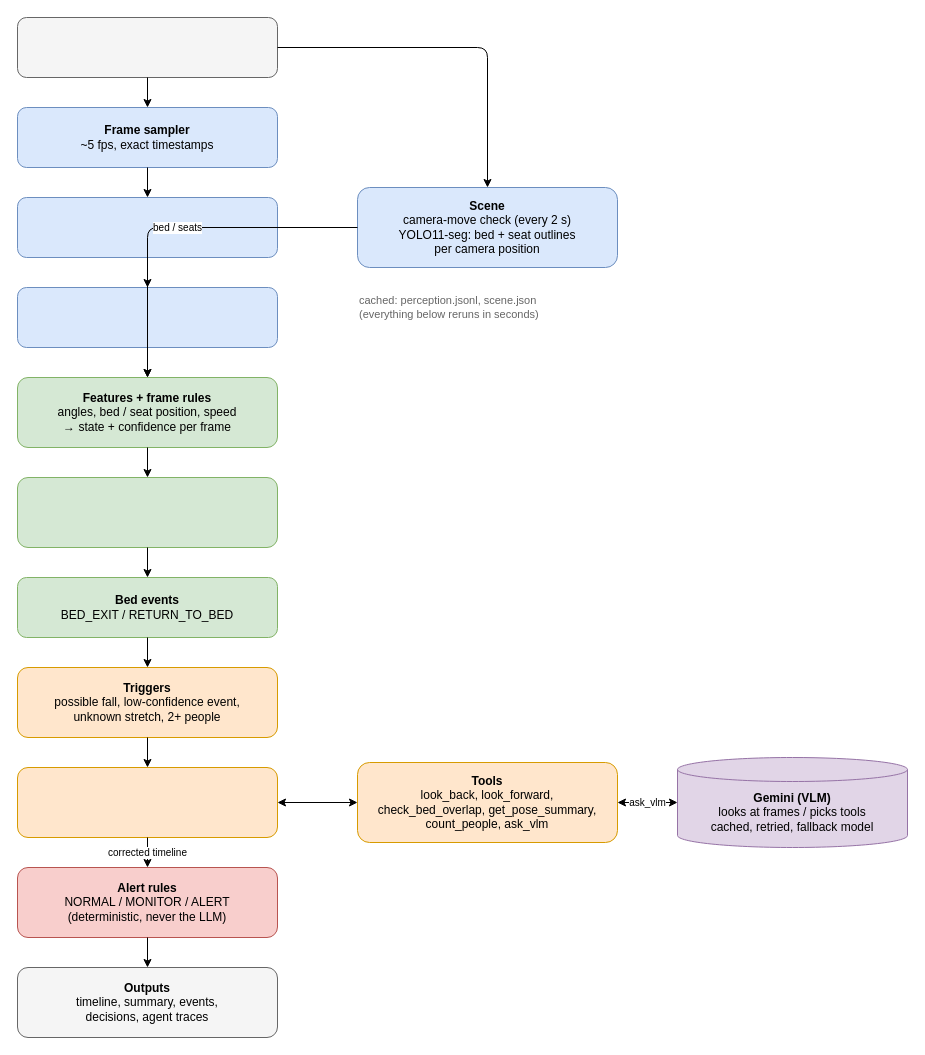
Image size: 925x1055. Some labels were removed from this diagram. The box of each missing label's shape, as (x1, y1, x2, y2) in pixels:
Investigator agent Reason → Act → Observe max 4 tool calls: (16, 766, 278, 838)
Patient selection track nearest the bed, re-link lost IDs: (16, 286, 278, 348)
State machine weighted vote, min dwell, back-dating → timeline segments: (16, 476, 278, 548)
Video fixed bedroom camera: (16, 16, 278, 78)
YOLO11-pose + ByteTrack boxes, 17 keypoints, track IDs: (16, 196, 278, 258)
